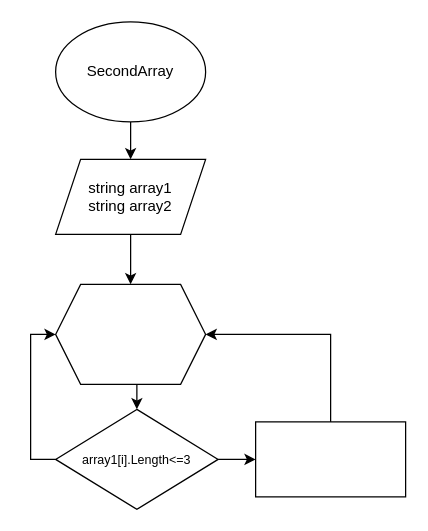
This 428x531 diagram has some shape labels left out. Each missing label, with the centre of its shape:
"array2[count]=array1[i] count++" belongs at [330,459].
"int count = 0 for(int i=0;i<array1.Length;i++" belongs at [130,333].
